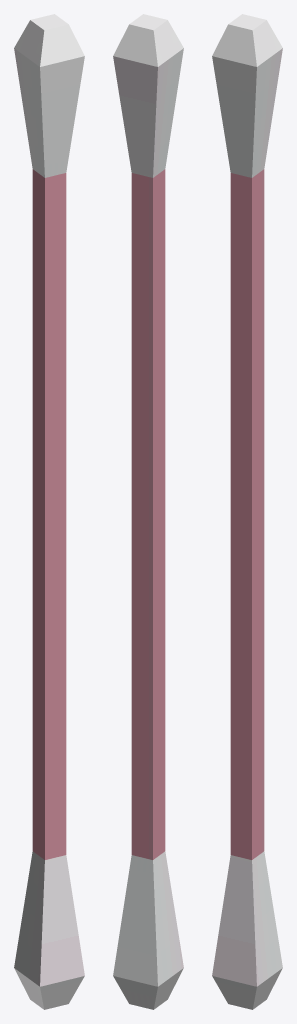
Rendered from CHAHIN_QTIP.obj.
The picture shows the model from 3 angles, left to right: view 1: azimuth 30°, elevation 25°; view 2: azimuth 150°, elevation 25°; view 3: azimuth 330°, elevation 25°; orthographic projection.
Visible parts, largest first — view 1: Cube.022_Cube.039; view 2: Cube.022_Cube.039; view 3: Cube.022_Cube.039.
Boxes of the visible parts, <box> form: Cube.022_Cube.039: <box>14,14,84,1009</box>; Cube.022_Cube.039: <box>113,14,183,1009</box>; Cube.022_Cube.039: <box>212,14,282,1009</box>.
Bounding box in the file's own units: 0.0399 × 0.8298 × 0.0399.
Materials: 1 (1 with a texture image).
